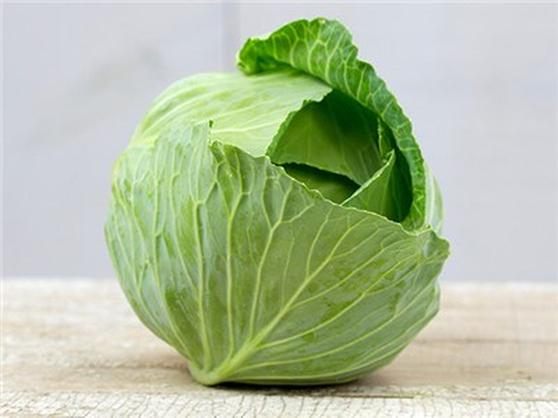cabbage: (112, 20, 454, 392)
